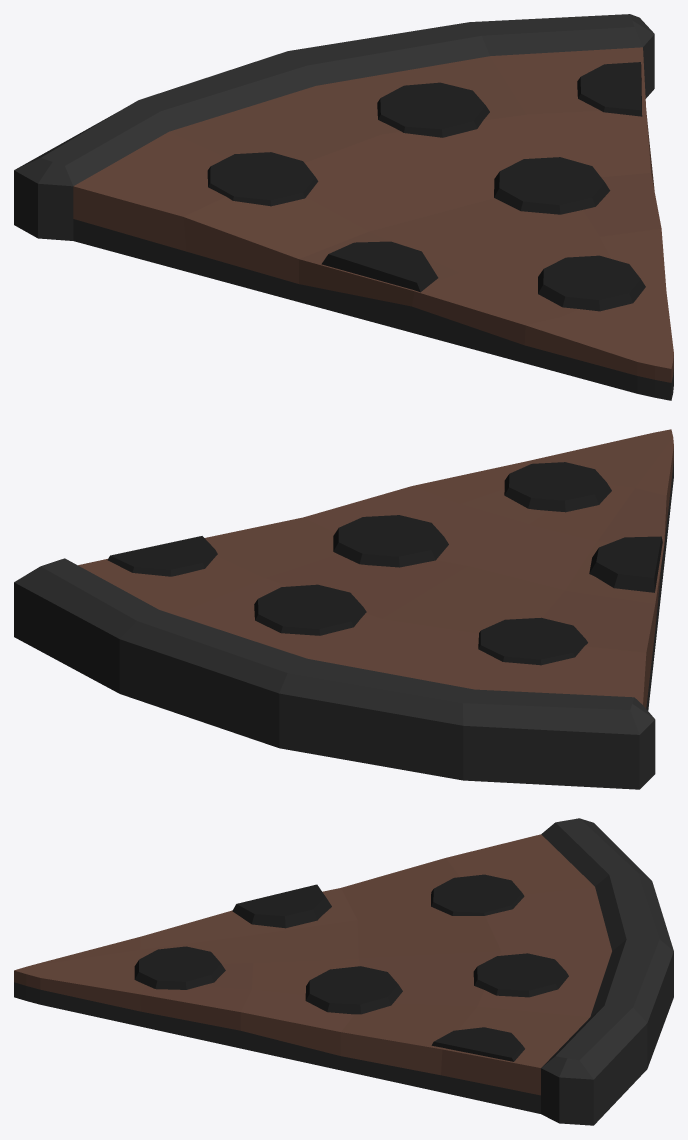
Rendered from quaternius-ultimate-food-pizza-burned.glb.
3 views of the same model, one above another, from view 1: azimuth 30°, elevation 25°; view 2: azimuth 150°, elevation 25°; view 3: azimuth 270°, elevation 25° (orthographic). The views are drawn at different scales.
Parts seen in each view (by area): view 1: Pizza_Burned; view 2: Pizza_Burned; view 3: Pizza_Burned.
Boxes of the visible parts, x1,y1,x2,y2 form: Pizza_Burned: [14, 14, 673, 400]; Pizza_Burned: [14, 429, 673, 789]; Pizza_Burned: [14, 818, 673, 1125].
Bounding box in the file's own units: 1.07 × 0.1128 × 1.16.
